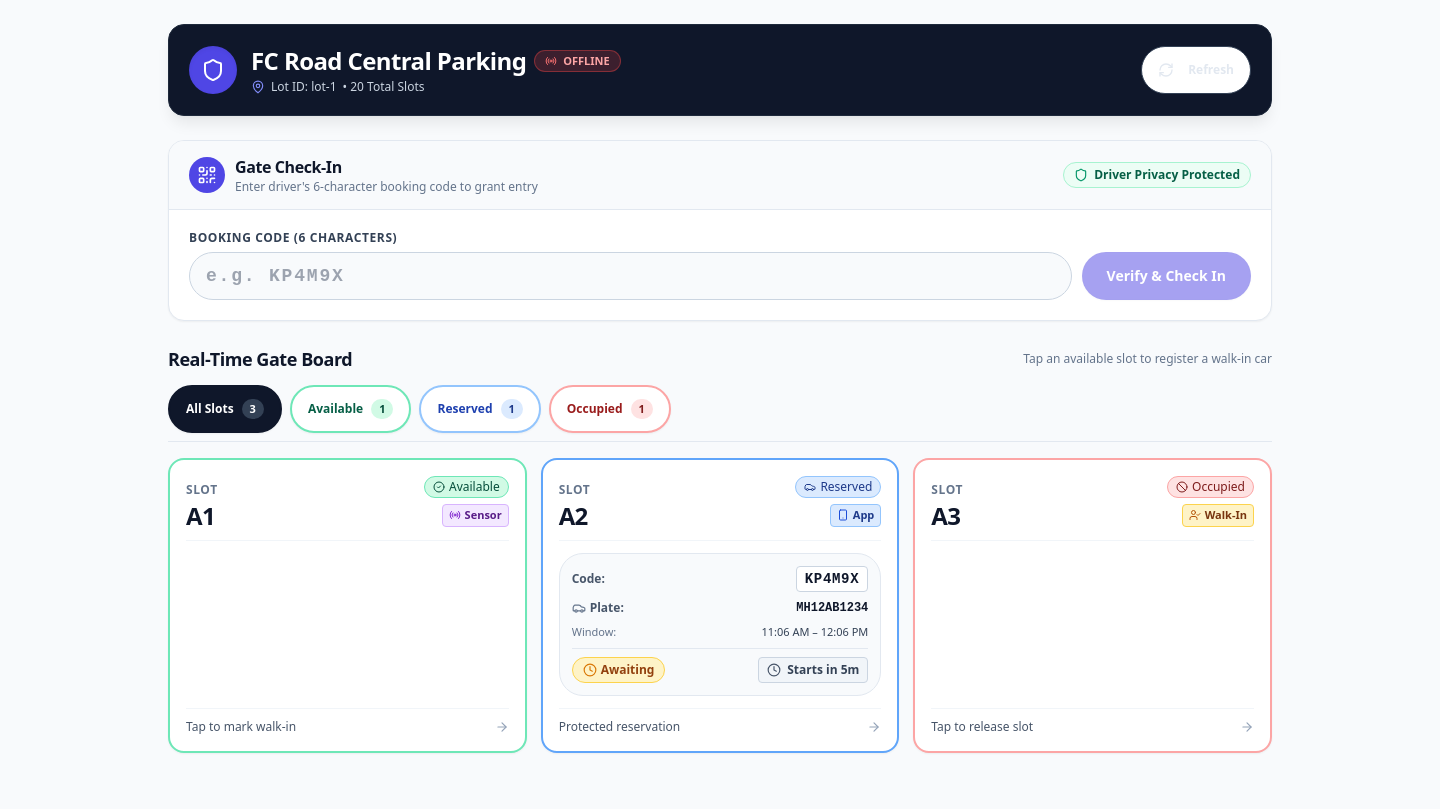
Test: Guard Console UI Suite (Stage 6) › successfully checks in a valid booking code
The image size is (1440, 809).
Expected: the heading "FC Road Central Parking" is shown, [251,45,526,77]
In the field labelled "Booking Code (6 Characters)": (630, 276) [189,252,1072,300], type "kp4m9x"
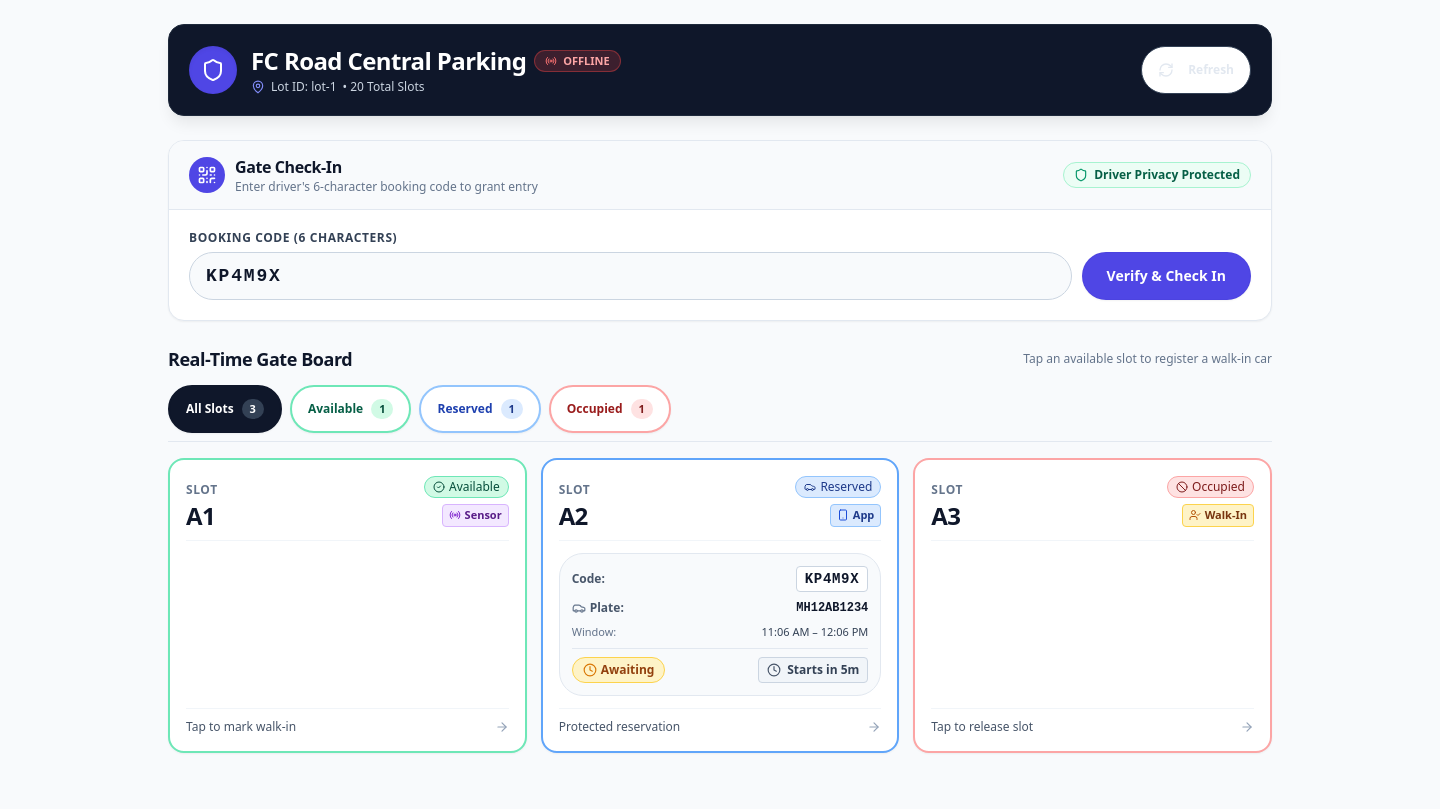
Click the button "Verify & Check In": (1166, 276) [1082,252,1251,300]
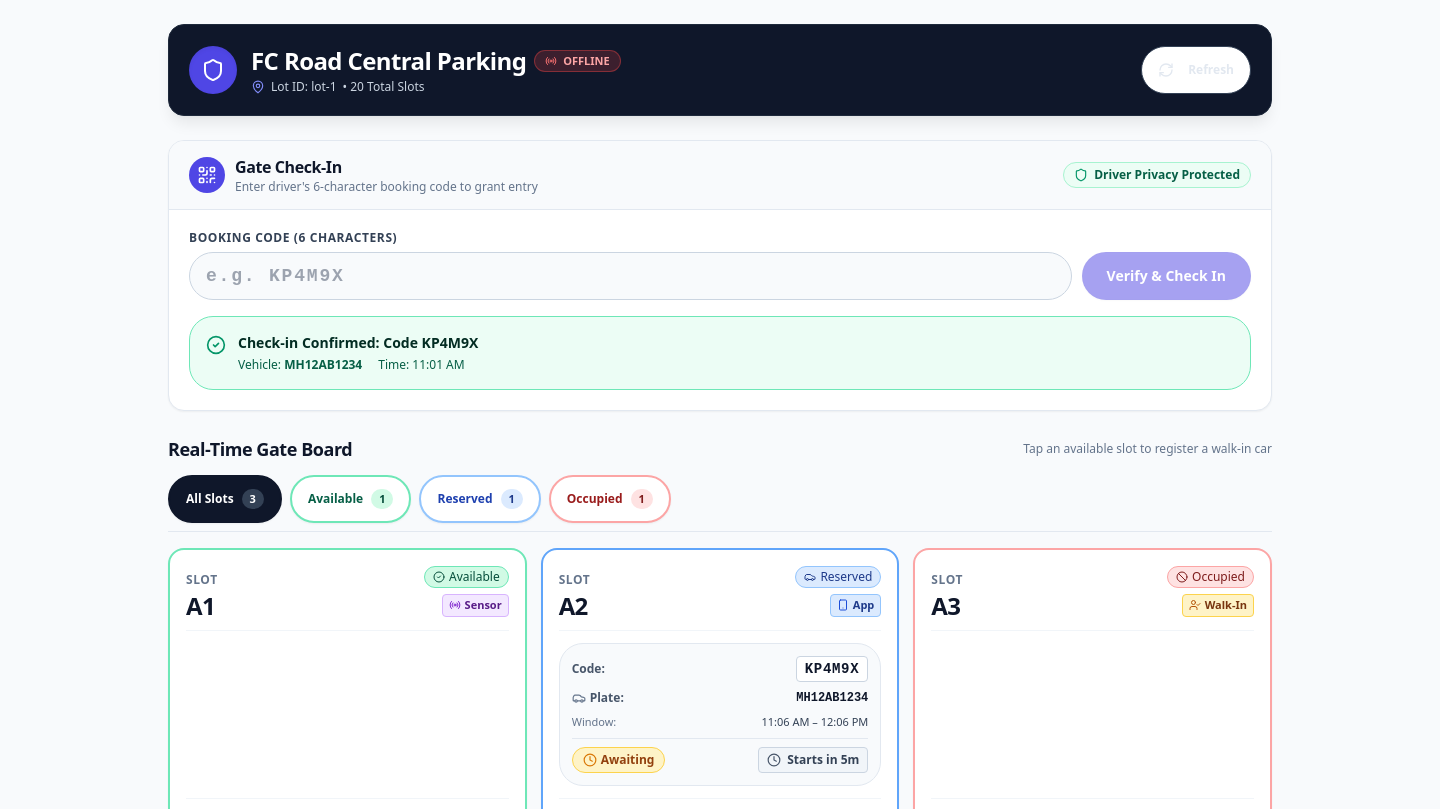
Expected: the text "Check-in Confirmed: Code KP4M9X" is shown, [238,333,478,353]
